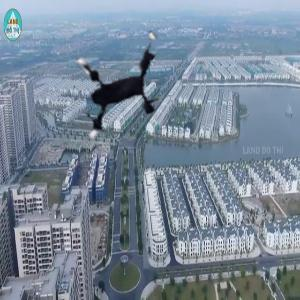drone: (40, 9, 187, 156)
